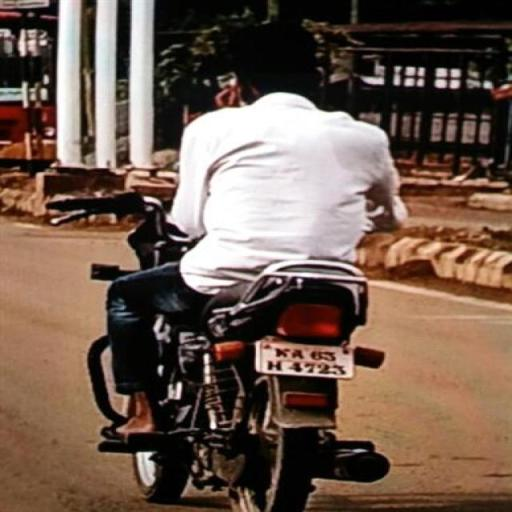using mobile: (216, 69, 254, 108)
